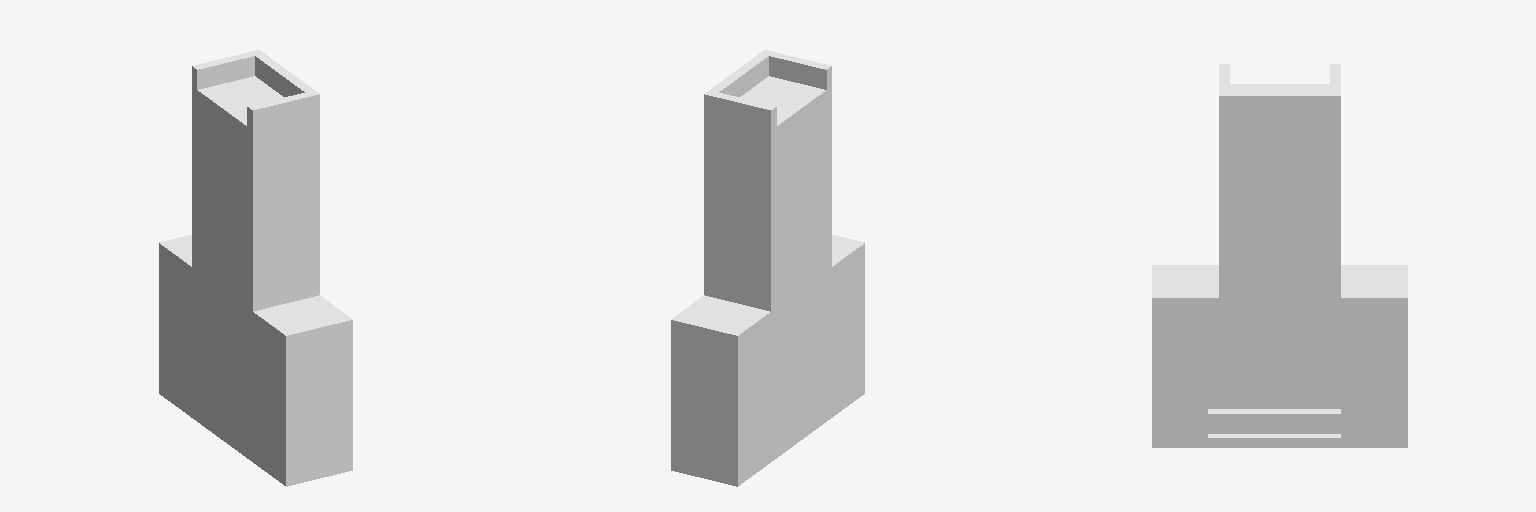
File: classic:fireplace.obj
3 views of the same model, side by side, from view 1: azimuth 30°, elevation 25°; view 2: azimuth 150°, elevation 25°; view 3: azimuth 270°, elevation 25° (orthographic).
Visible parts, largest first — view 1: classic:fireplace; view 2: classic:fireplace; view 3: classic:fireplace.
Part boxes in pixels (x1,y1,x2,y2): classic:fireplace: (159, 50, 352, 486); classic:fireplace: (671, 50, 864, 486); classic:fireplace: (1152, 64, 1407, 447).
Bounding box in the file's own units: 7 × 35 × 23.